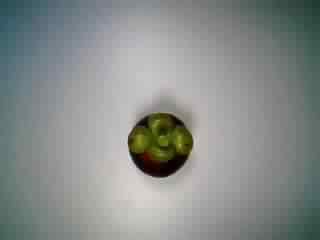mangosteen: (119, 106, 204, 182)
